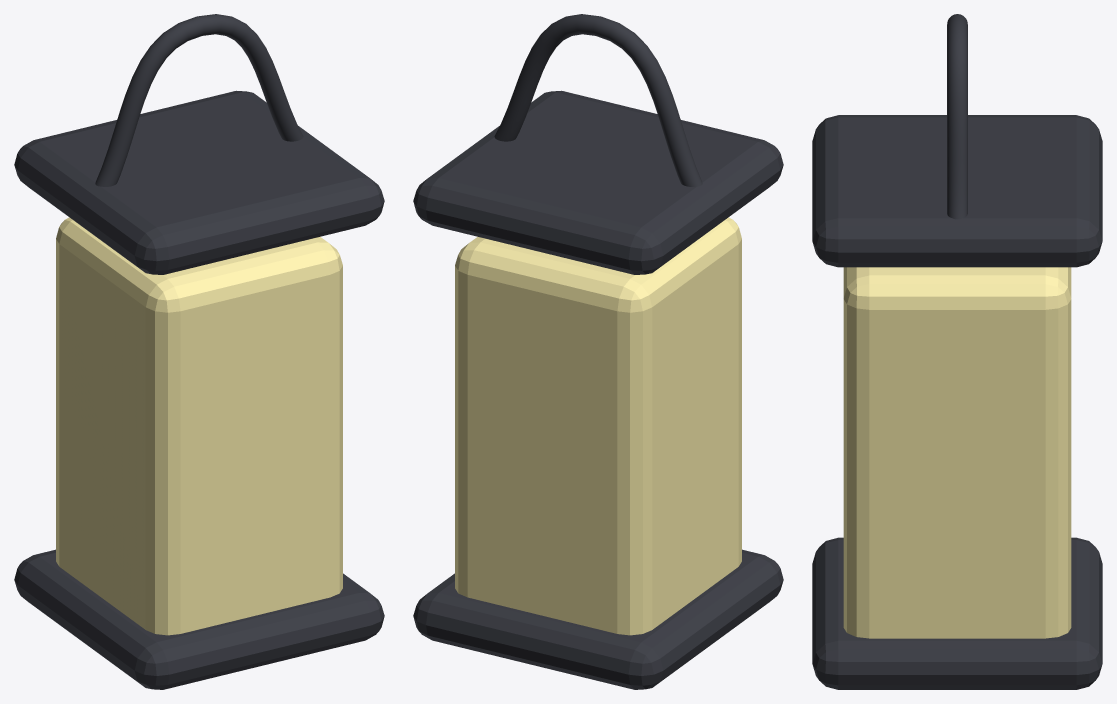
The model's file is lantern.glb.
3 views of the same model, side by side, from view 1: azimuth 30°, elevation 25°; view 2: azimuth 150°, elevation 25°; view 3: azimuth 270°, elevation 25° (orthographic).
Visible parts, largest first — view 1: lantern, h; view 2: lantern, h; view 3: lantern, h.
Part boxes in pixels (x1=…): lantern: x1=14, y1=90, x2=384, y2=689; h: x1=95, y1=14, x2=303, y2=186; lantern: x1=413, y1=90, x2=783, y2=689; h: x1=494, y1=14, x2=702, y2=186; lantern: x1=812, y1=115, x2=1102, y2=689; h: x1=947, y1=14, x2=967, y2=219.
Size of the model in its own units: 0.28 by 0.655 by 0.28.
